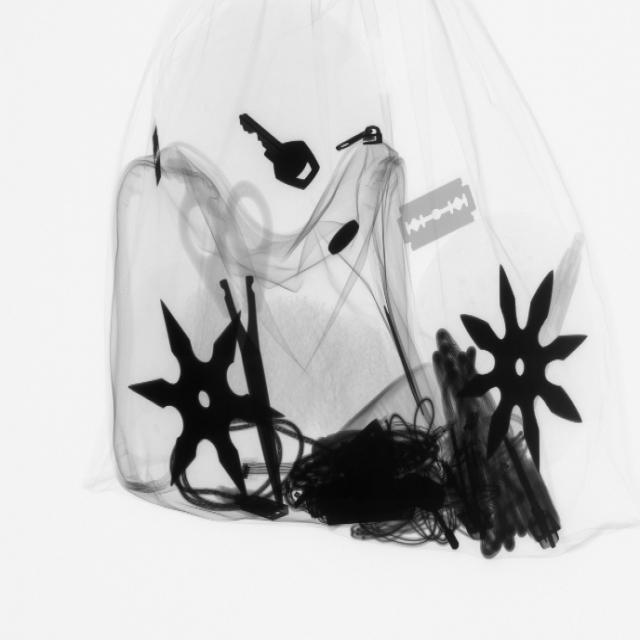BLADE: (394, 173, 481, 259), (143, 118, 171, 194)
SHURIKEN: (131, 289, 275, 503), (455, 261, 587, 473)
